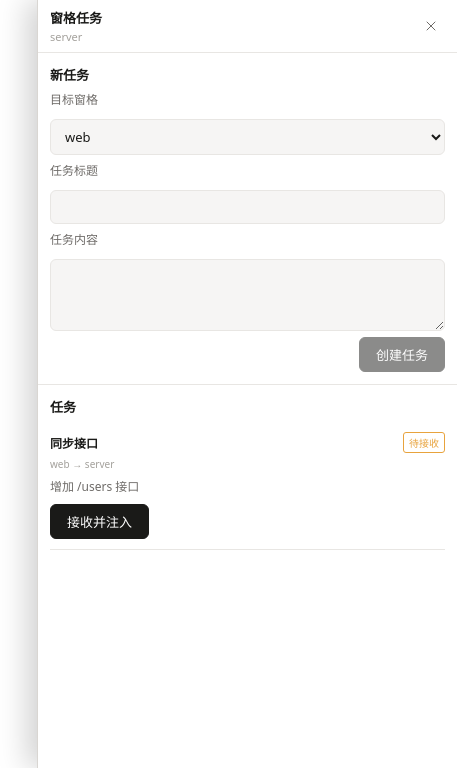
Scenario: PaneTaskDrawer › 关闭并重新打开抽屉时不保留旧确认态
Click the button "接收并注入".
click(100, 522)  # box 50,504 -> 149,539
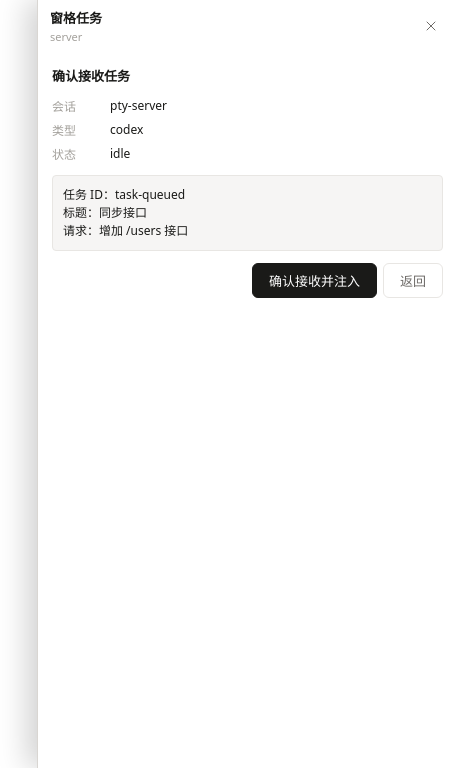
Expected: the button "确认接收并注入" is shown, 252,263 -> 377,298
Click the button titled "关闭任务抽屉".
click(431, 26)  # box 417,12 -> 445,40
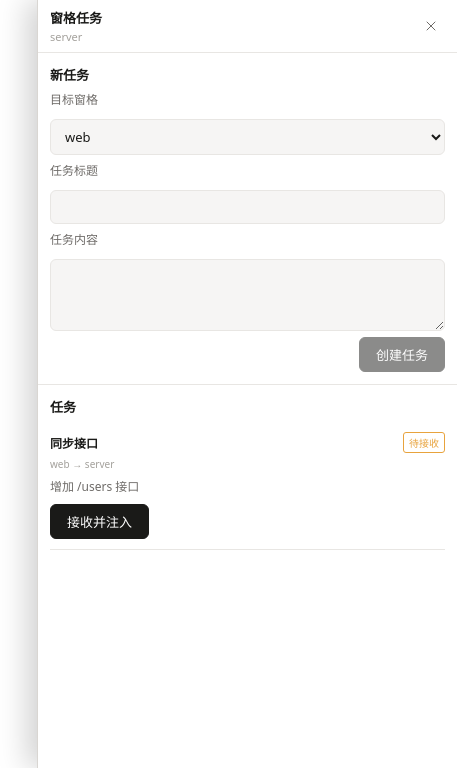
Expected: the button "确认接收并注入" is gone
